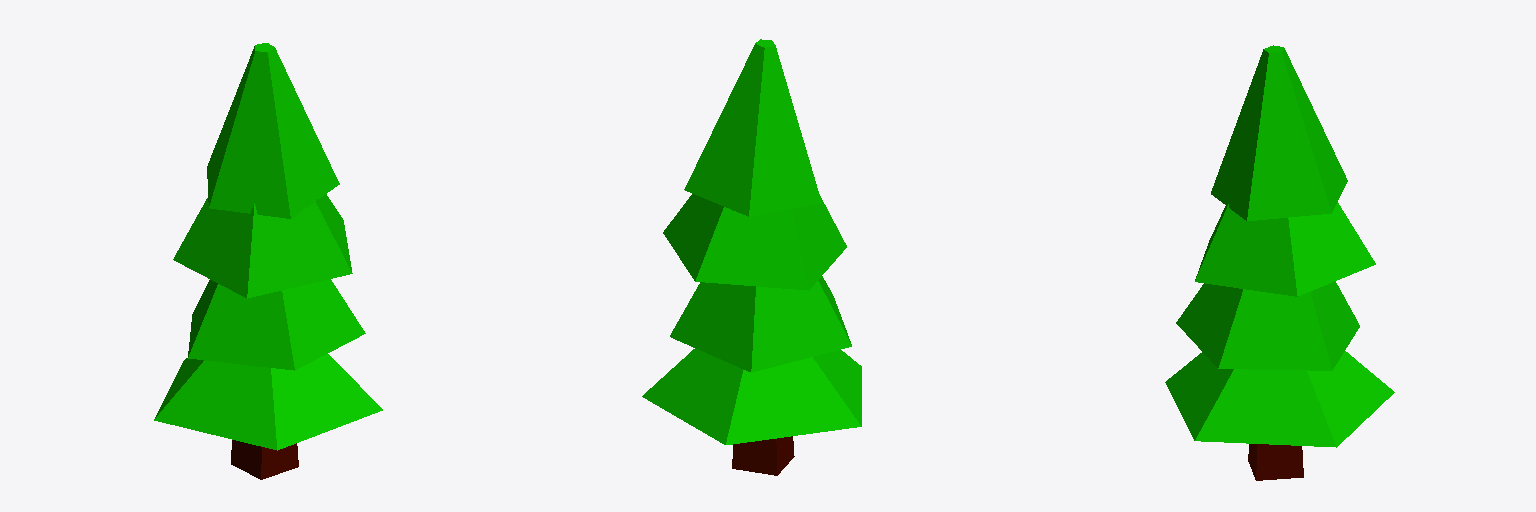
Rendered from tree_01.obj.
The picture shows the model from 3 angles: view 1: azimuth 30°, elevation 25°; view 2: azimuth 150°, elevation 25°; view 3: azimuth 270°, elevation 25°; orthographic projection.
Visible parts, largest first — view 1: Cube.004; view 2: Cube.004; view 3: Cube.004.
Part boxes in pixels (x1,y1,x2,y2): Cube.004: (154,43,382,479); Cube.004: (642,39,861,475); Cube.004: (1165,45,1394,480).
Bounding box in the file's own units: 1.86 × 3.81 × 1.89.